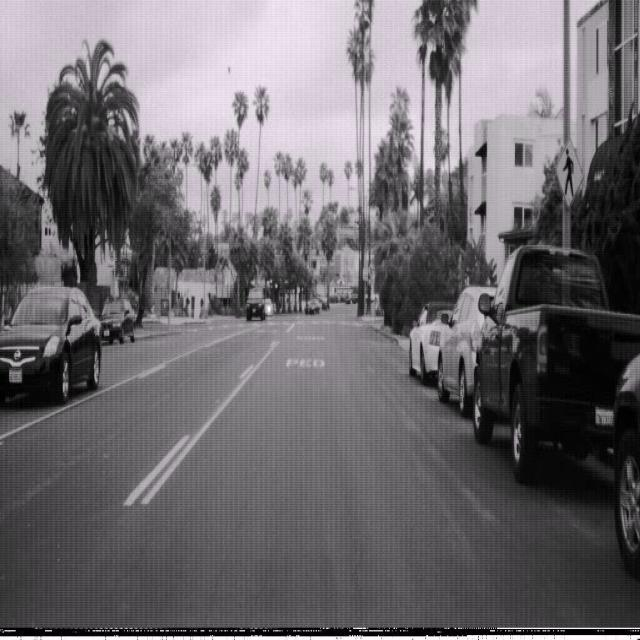pedestrianCrossing: (555, 135, 584, 210)
